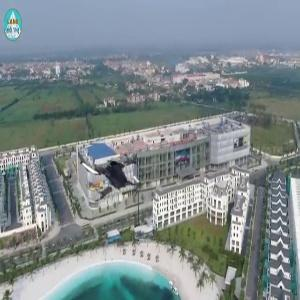drone: (72, 132, 149, 209)
